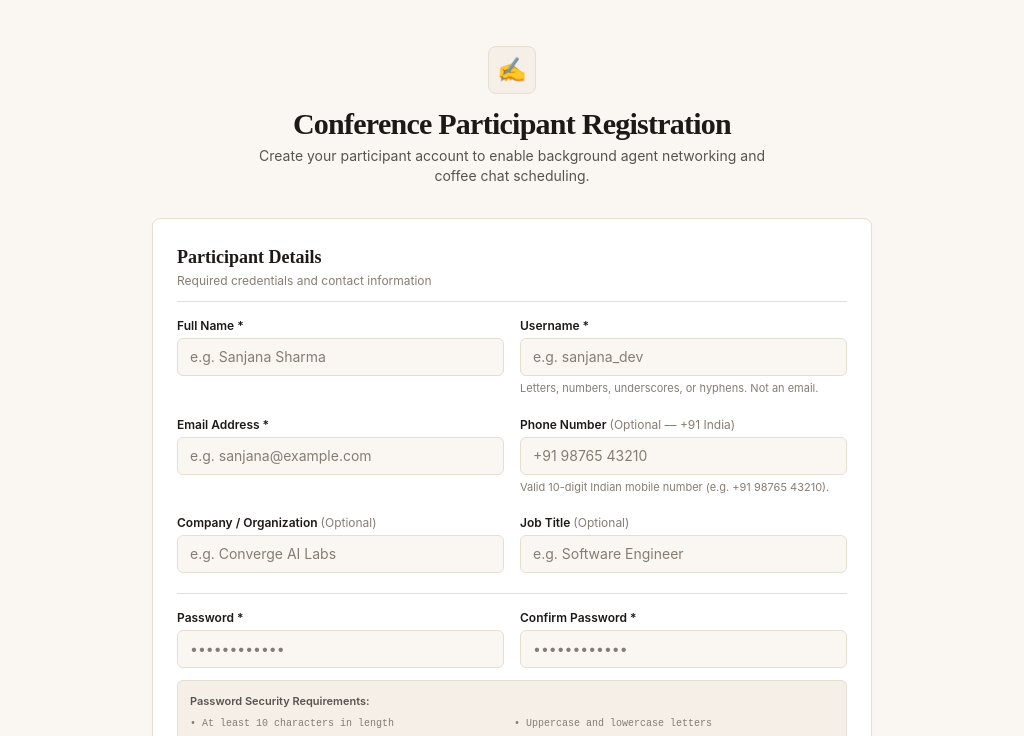
Register Component › prevents entering an email address into username and surfaces helpful error
The image size is (1024, 736).
Type "Sanjana Sharma" into the field labelled "Full Name *" at (340, 357), box 177,338 -> 504,376
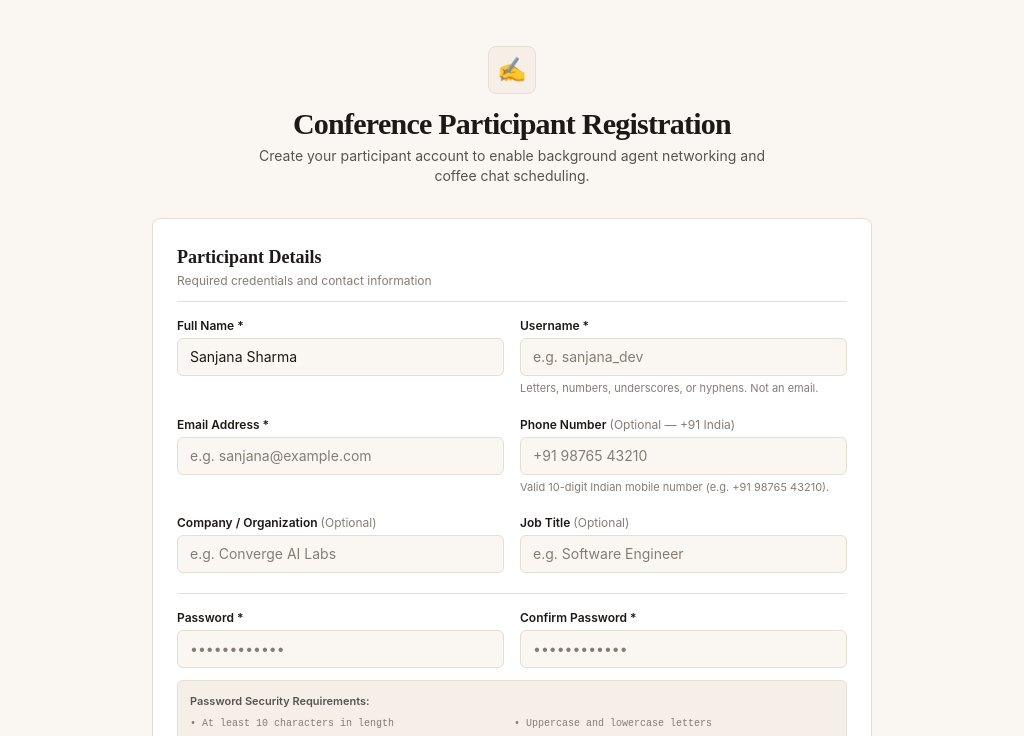
Type "sanjnamaahi2001@gmail.com" into the field labelled "Username *" at (684, 357), box 520,338 -> 847,376
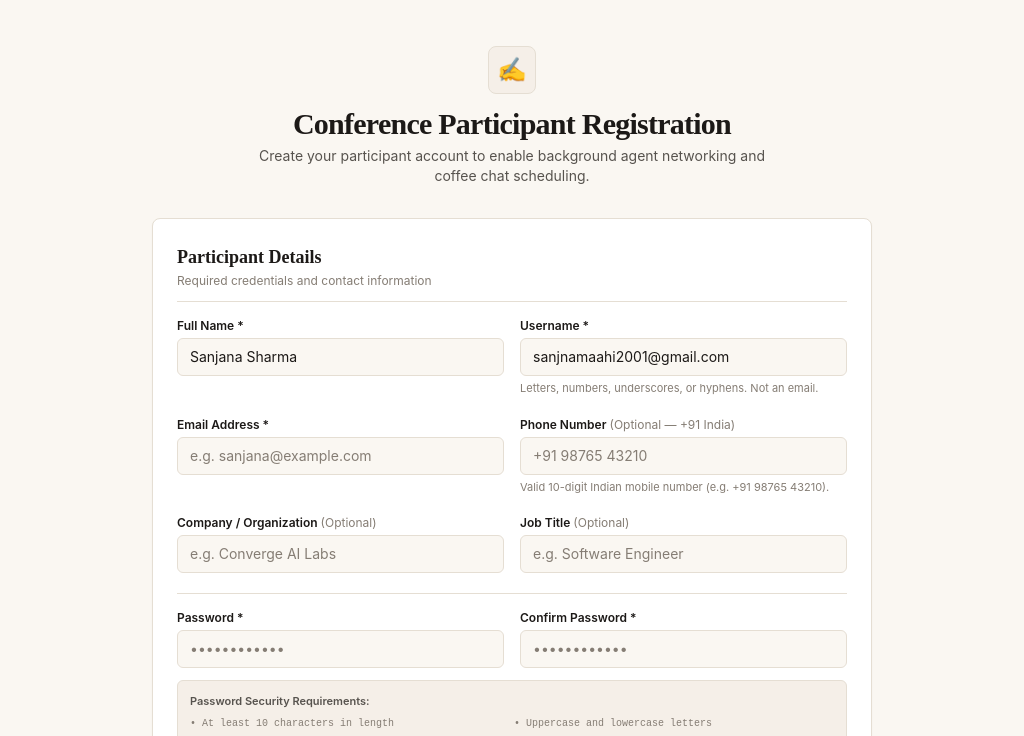
Type "sanjnamaahi2001@gmail.com" into the field labelled "Email Address *" at (340, 456), box 177,436 -> 504,474
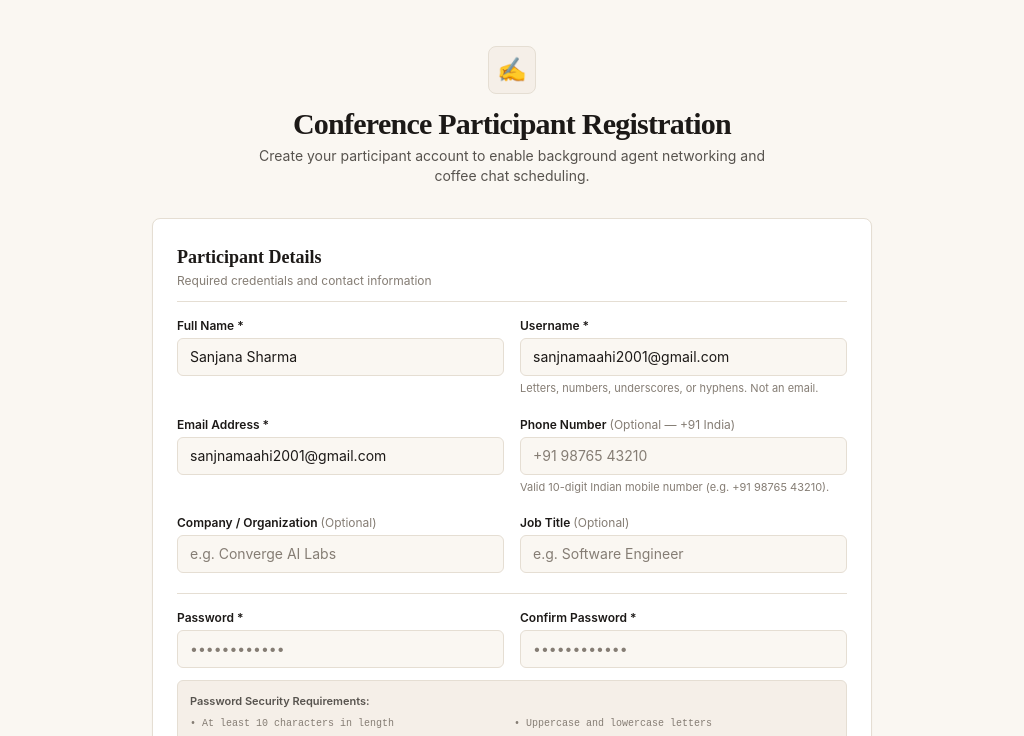
Type "ValidPassword123!" into the password field labelled "Password *" at (340, 649), box 177,630 -> 504,668
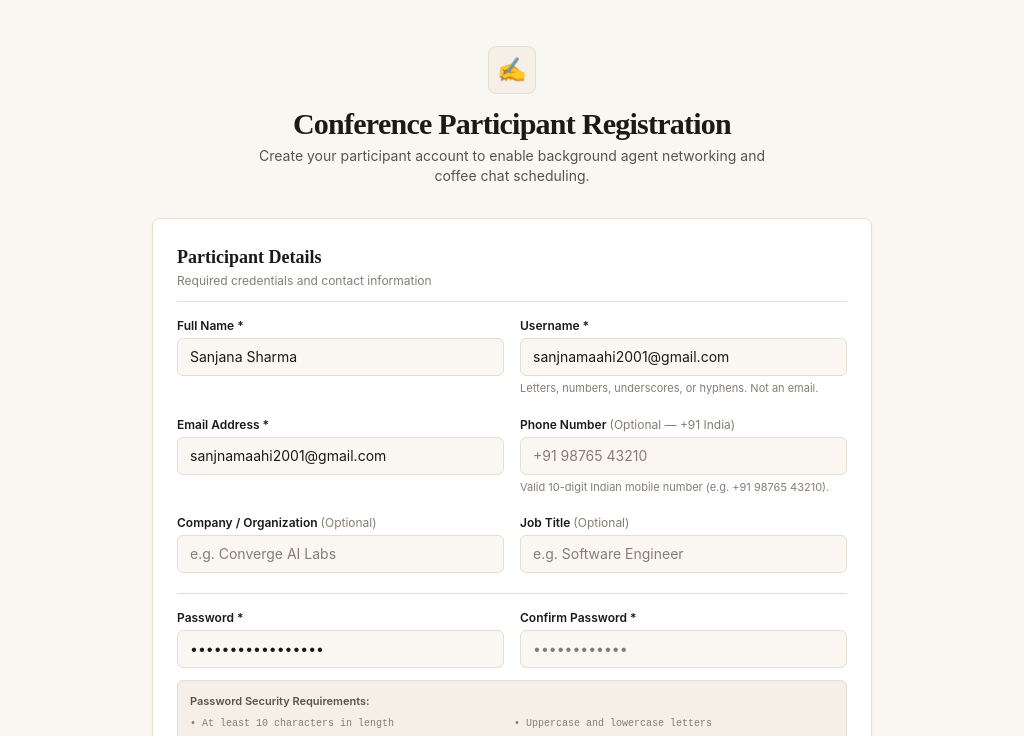
Type "ValidPassword123!" into the password field labelled "Confirm Password *" at (684, 649), box 520,630 -> 847,668
(page scrolled)
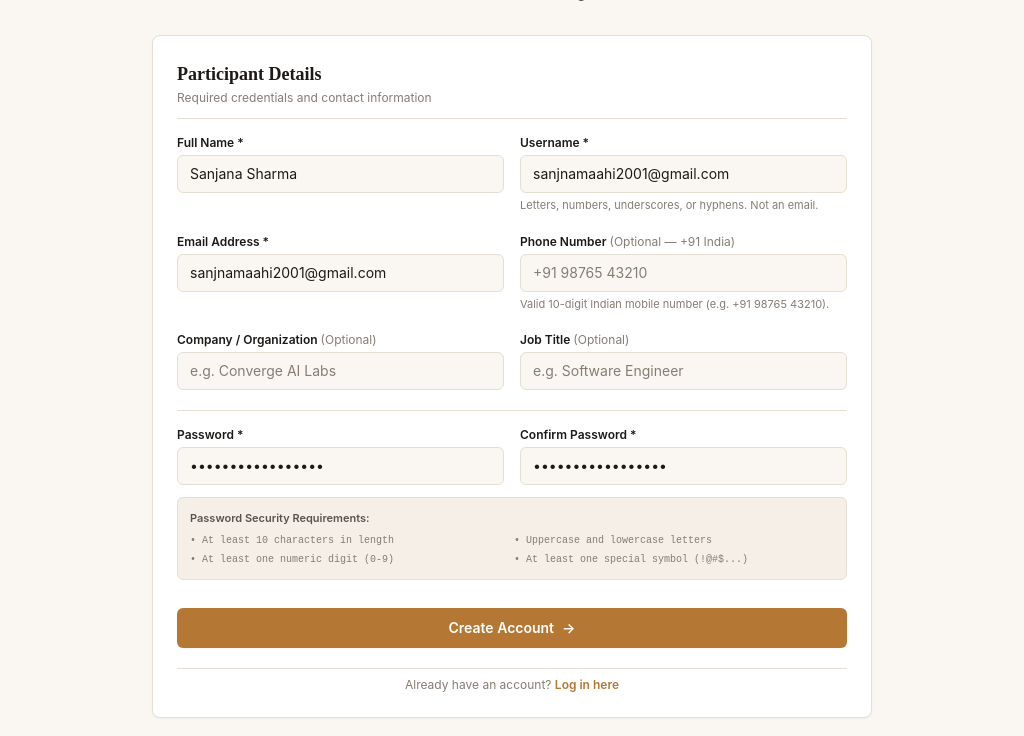
Click the button "Create Account →" at (512, 628), box 177,608 -> 847,648
(page scrolled)
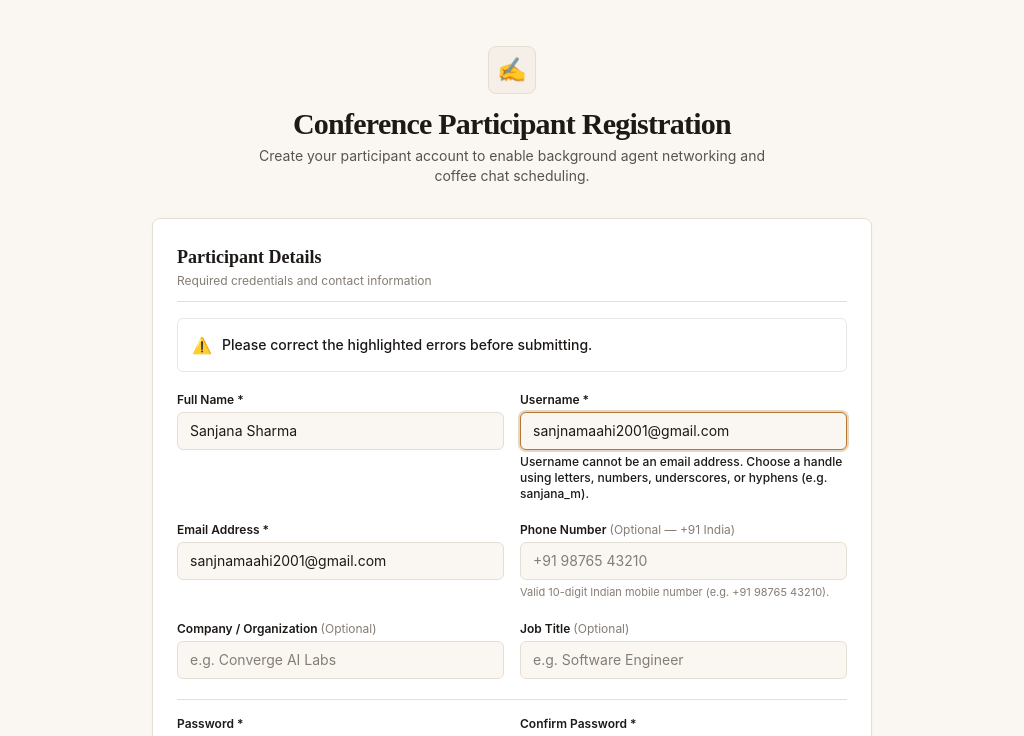
Now the text "Username cannot be an email address" is shown, box 520,454 -> 842,501
